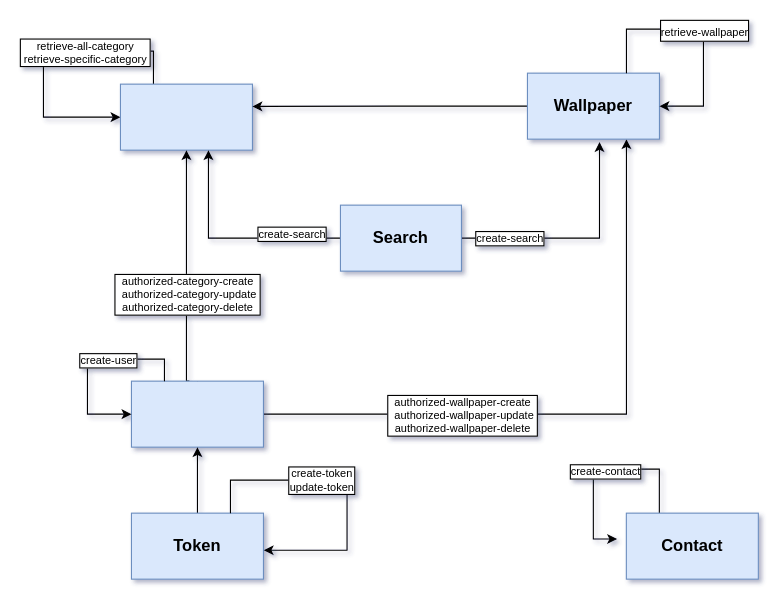
The diagram is 784 pixels wide and 605 high, and some of its shapes have lost their labels. Here are the shapes that lost their labels. From the top down, the centre of each, then its label:
At point 185,116: "Category".
At point 196,413: "User".
